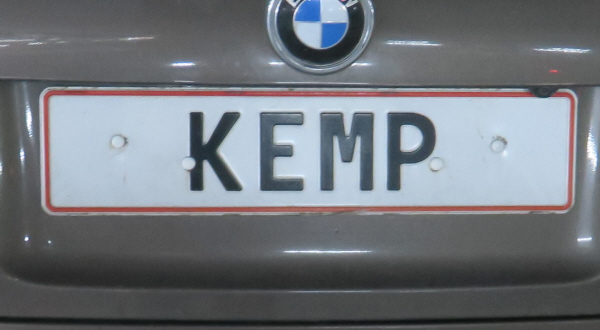license_plate: (40, 87, 576, 215)
